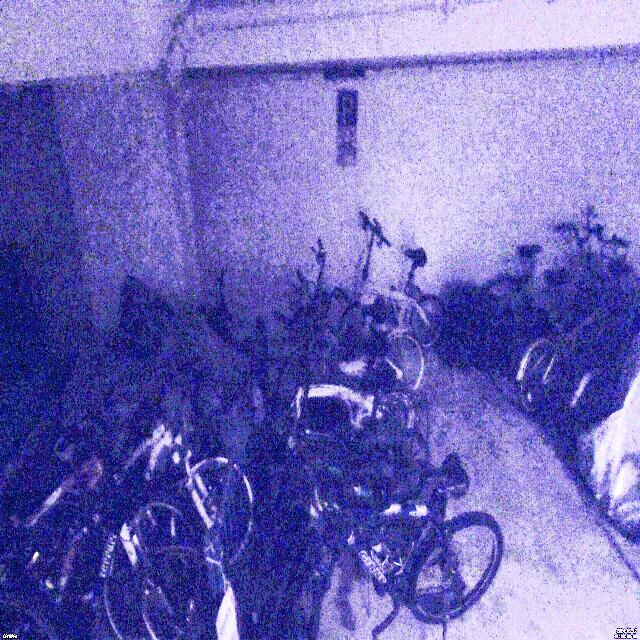bike: (29, 398, 254, 594), (281, 451, 502, 640), (478, 220, 623, 358), (330, 211, 448, 352)
